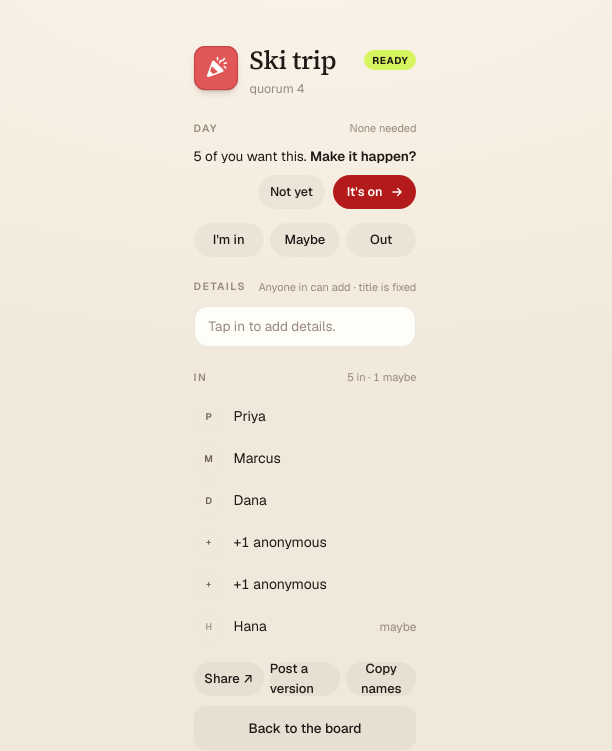
Test case: copy names › on the proposal page, copies the list and toasts the count; numbers never copied
Click the button "Copy names" at (381, 679), box [346,662,416,696]
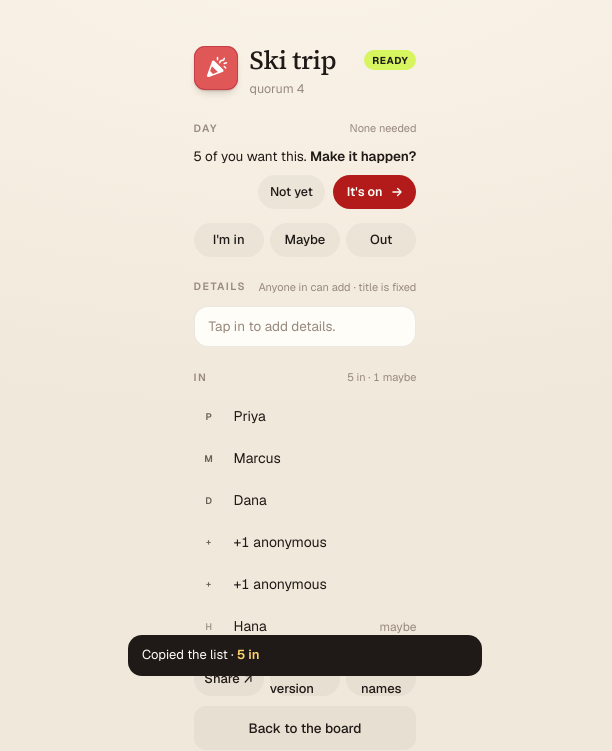
Result: the message with class "show" reads "Copied the list · 5 in" at [128,635,482,676]
